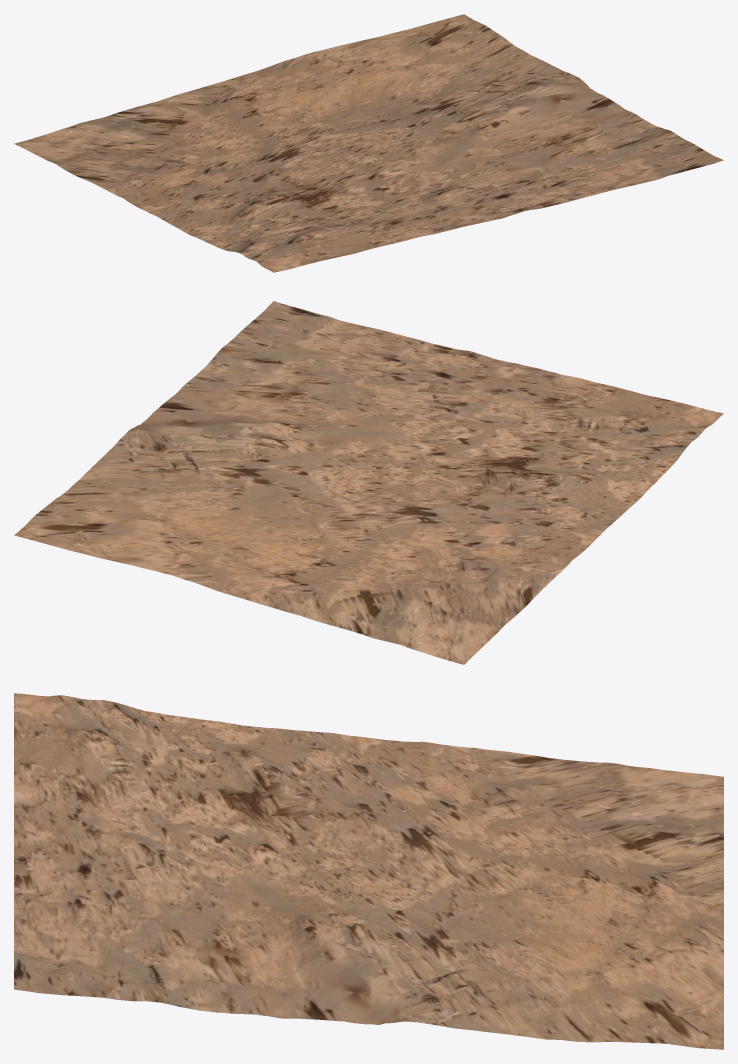
3 renders of one model, top to bottom at view 1: azimuth 30°, elevation 25°; view 2: azimuth 150°, elevation 25°; view 3: azimuth 270°, elevation 25°, orthographic. The views are drawn at different scales.
Size of the model in its own units: 8.36 by 1.13 by 8.36.
Materials: 2 (2 with a texture image).
